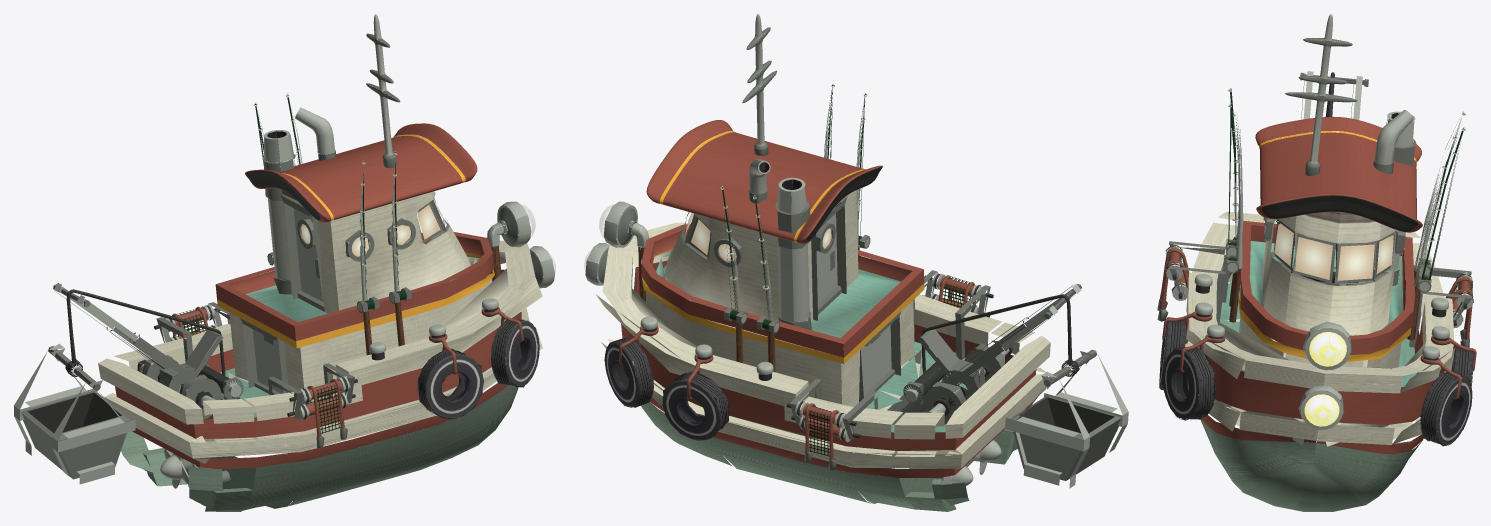
Rendered from boat.glb.
3 views of the same model, side by side, from view 1: azimuth 30°, elevation 25°; view 2: azimuth 150°, elevation 25°; view 3: azimuth 270°, elevation 25° (orthographic). The views are drawn at different scales.
Parts seen in each view (by area): view 1: pCube2, Boat_White_Wood_0, Boat_Lower_Hull_0, pCube3, Boat_Wood_Red_0, pCylinder26, pCylinder45, pCylinder49, pCylinder13, Boat_lambert1_0, pCylinder3, pCube25 (+15 smaller); view 2: pCube2, Boat_White_Wood_0, pCube3, pCylinder26, Boat_Lower_Hull_0, Boat_Wood_Red_0, pCylinder13, pCylinder47, pCylinder51, Boat_lambert1_0, pCube25, pCylinder9 (+14 smaller); view 3: pCube2, Boat_White_Wood_0, pCube3, Boat_Lower_Hull_0, Boat_Wood_Red_0, pCylinder49, pCylinder51, pCube7, Boat_lambert1_0, pCylinder3, pCylinder32, pCylinder45 (+12 smaller).
Part boxes in pixels (x1,y1,x2,y2): pCube2: (178, 179, 494, 419); Boat_White_Wood_0: (98, 240, 542, 463); Boat_Lower_Hull_0: (142, 385, 518, 511); pCube3: (245, 123, 477, 222); Boat_Wood_Red_0: (115, 269, 521, 468); pCylinder26: (14, 343, 135, 484); pCylinder45: (417, 324, 483, 419); pCylinder49: (481, 298, 539, 387); pCylinder13: (262, 130, 295, 294); Boat_lambert1_0: (128, 252, 529, 441); pCylinder3: (487, 201, 531, 281); pCube25: (53, 283, 224, 399); pCube2: (641, 180, 979, 432); Boat_White_Wood_0: (596, 222, 1050, 468); pCube3: (646, 120, 882, 243); pCylinder26: (1005, 349, 1128, 488); Boat_Lower_Hull_0: (641, 402, 1014, 511); Boat_Wood_Red_0: (621, 260, 1036, 478); pCylinder13: (775, 177, 811, 329); pCylinder47: (662, 344, 729, 440); pCylinder51: (604, 316, 658, 407); Boat_lambert1_0: (630, 249, 1019, 454); pCube25: (901, 283, 1081, 414); pCylinder9: (918, 329, 990, 406); pCube2: (1219, 212, 1416, 424); Boat_White_Wood_0: (1185, 211, 1455, 444); pCube3: (1255, 116, 1422, 232); Boat_Lower_Hull_0: (1200, 419, 1421, 511); Boat_Wood_Red_0: (1199, 260, 1435, 454); pCylinder49: (1163, 324, 1225, 420); pCylinder51: (1420, 346, 1472, 446); pCube7: (1285, 14, 1357, 175); Boat_lambert1_0: (1217, 234, 1426, 446); pCylinder3: (1303, 321, 1352, 370); pCylinder32: (1298, 385, 1344, 429); pCylinder45: (1159, 302, 1212, 390).
Bounding box in the file's own units: 0.2164 × 0.1805 × 0.1084.
Materials: 19 (19 with a texture image).
